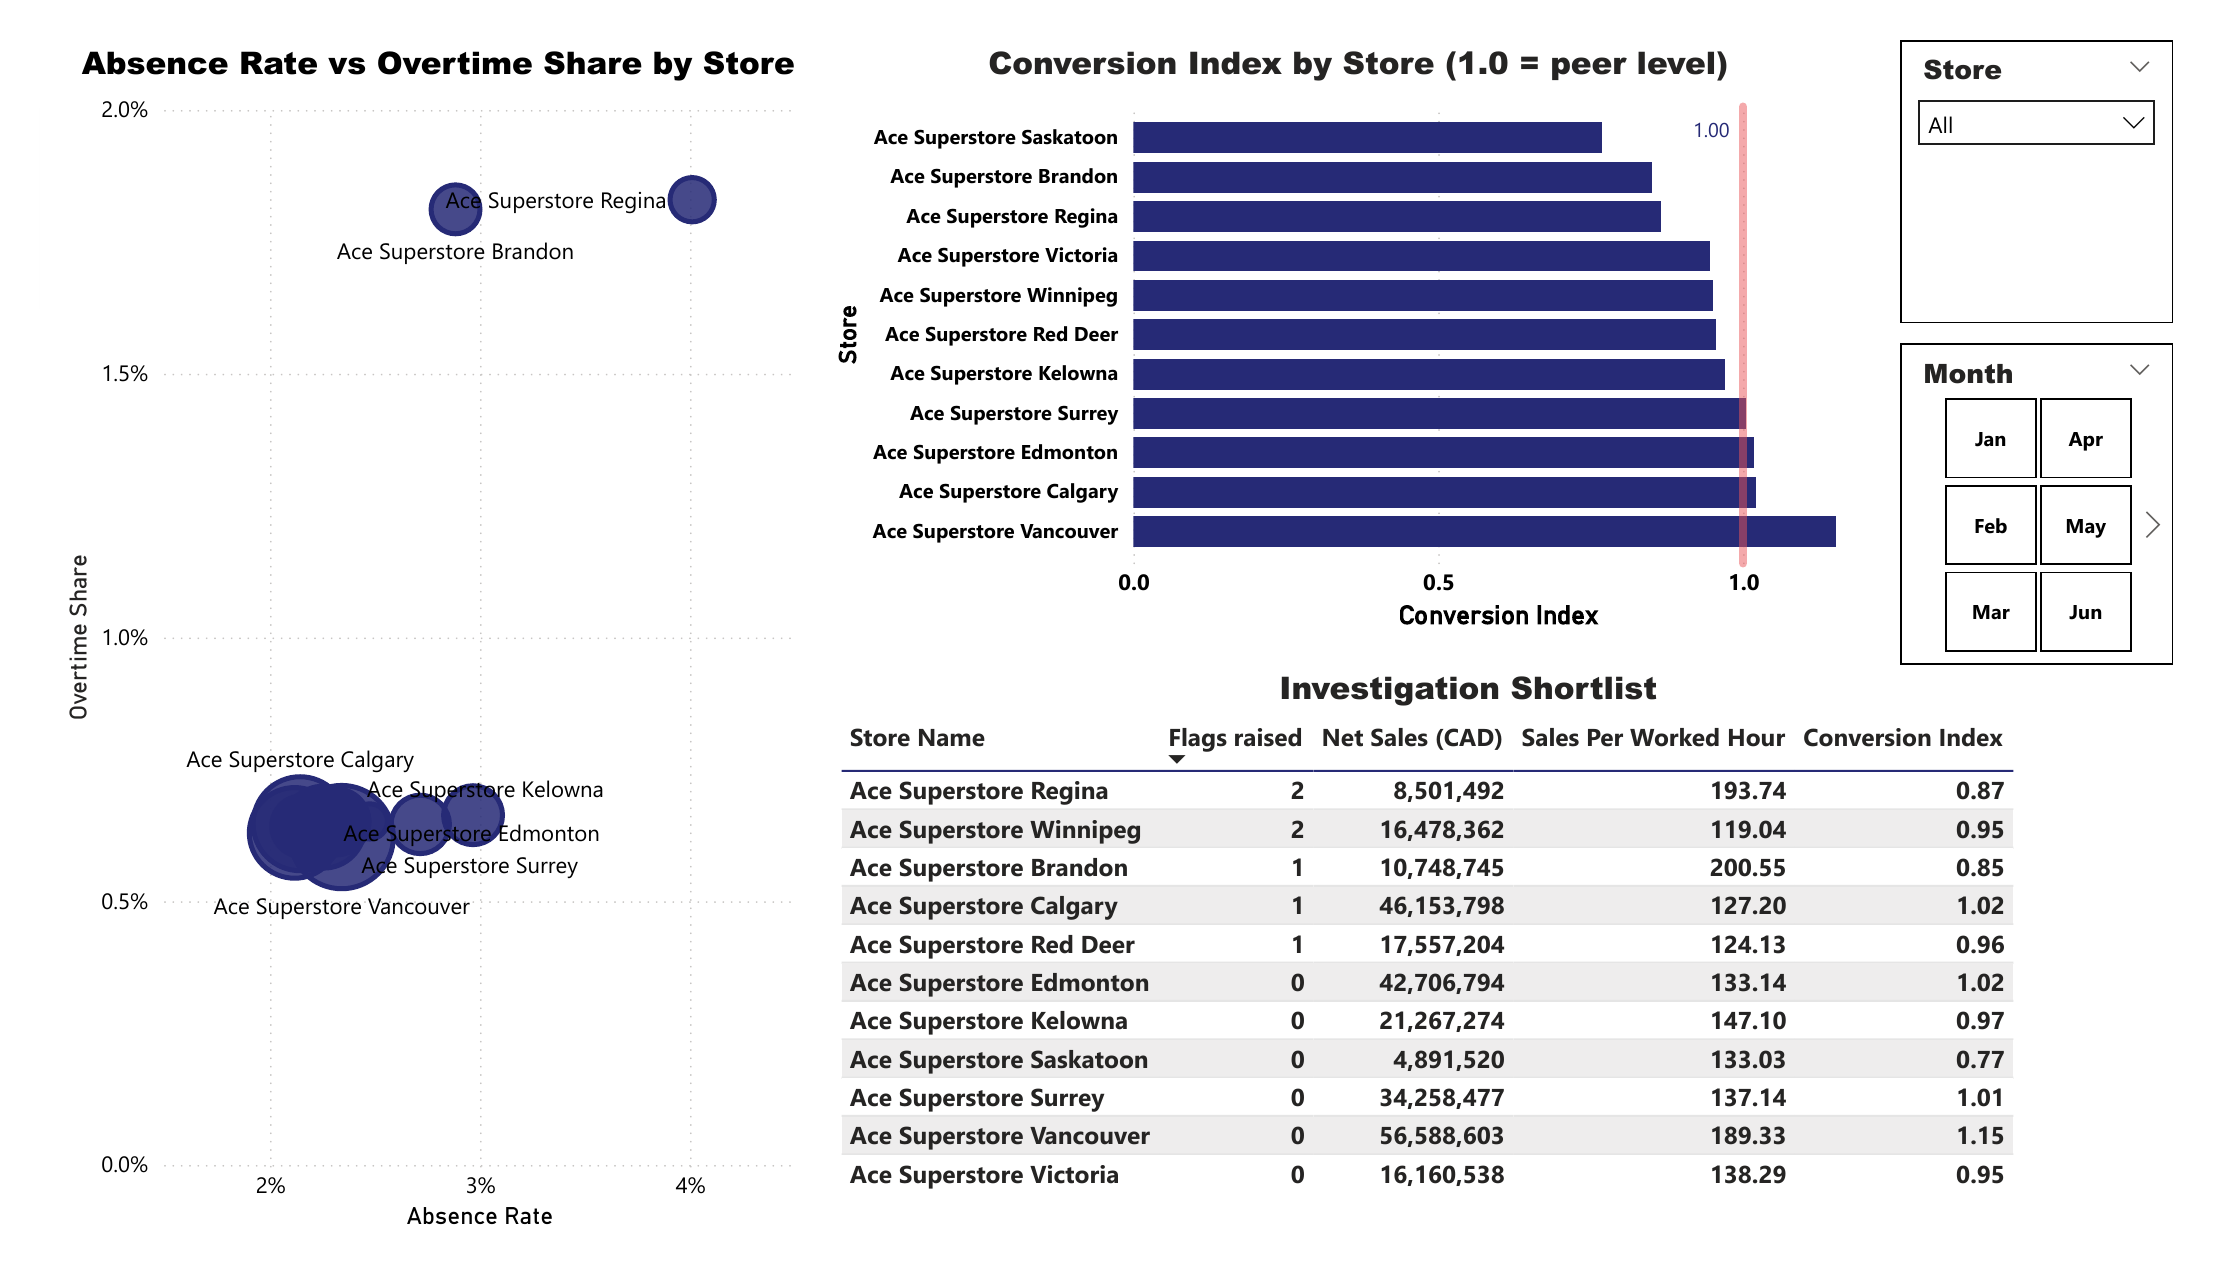

The dashboard page shown, as its layout file describes it:
{"tool":"powerbi","page":{"name":"Absence, Overtime and Conversion","canvas":[1280,720],"ordinal":2},"visuals":[{"type":"scatterChart","title":"Absence Rate vs Overtime Share by Store","fields":{"Category":["mart dim_store.store_name"],"X":["Measures .Absence Rate"],"Y":["Measures .Overtime Share"],"Size":["Measures .Net Sales (CAD)"]},"box":[10,0,457.7,719.4],"z":0},{"type":"clusteredBarChart","title":"Conversion Index by Store (1.0 = peer level)","fields":{"Category":["mart dim_store.store_name"],"Y":["Measures .Conversion Index"]},"box":[472,0,637.9,359],"z":1000},{"type":"tableEx","title":"Investigation Shortlist","fields":{"Values":["mart investigation_shortlist.store_name","Sum(mart investigation_shortlist.flags_raised)","Sum(mart investigation_shortlist.net_sales_cad)","Sum(mart investigation_shortlist.sales_per_worked_hour)","mart investigation_shortlist.conversion_index"]},"box":[474.8,374.7,763.7,344.7],"z":2000},{"type":"slicer","fields":{"Values":["mart dim_store.store_name"]},"box":[1115.5,0,164.5,170.2],"z":3000},{"type":"slicer","fields":{"Values":["mart dim_date.month_name"]},"box":[1115.5,181.6,164.5,193.1],"z":4000}]}

Visuals, with their boxes in screenshot pixels (x1, y1, x2, y2), scaled from the page's 1280x720 canvas onto the 2214x1280 screenshot:
"Absence Rate vs Overtime Share by Store" scatterChart: bbox(17, 0, 809, 1279)
"Conversion Index by Store (1.0 = peer level)" clusteredBarChart: bbox(816, 0, 1920, 638)
"Investigation Shortlist" tableEx: bbox(821, 666, 2142, 1279)
slicer - mart dim_store.store_name: bbox(1929, 0, 2213, 303)
slicer - mart dim_date.month_name: bbox(1929, 323, 2213, 666)
